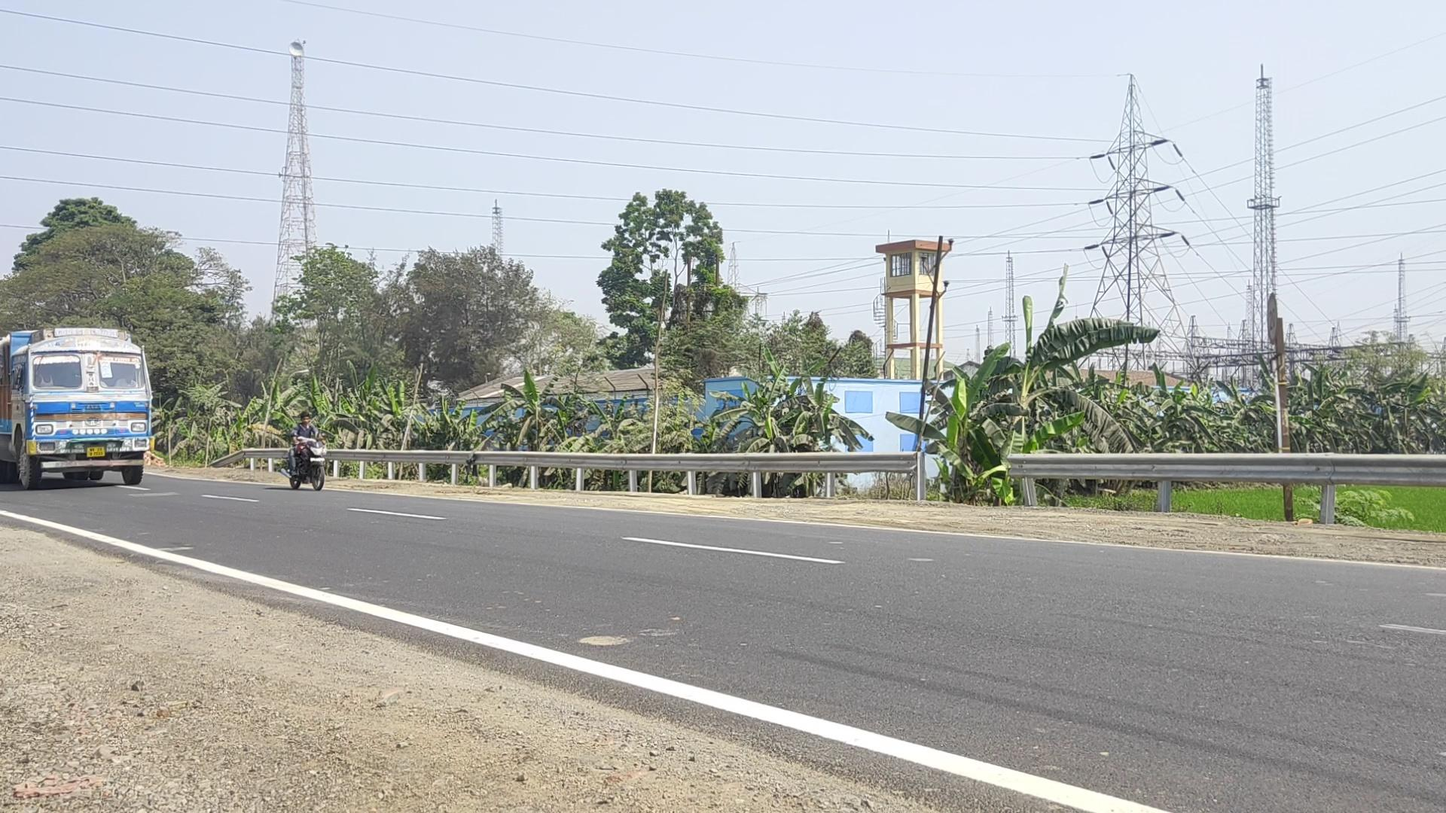bike: (279, 411, 328, 491)
truck: (1, 327, 154, 491)
